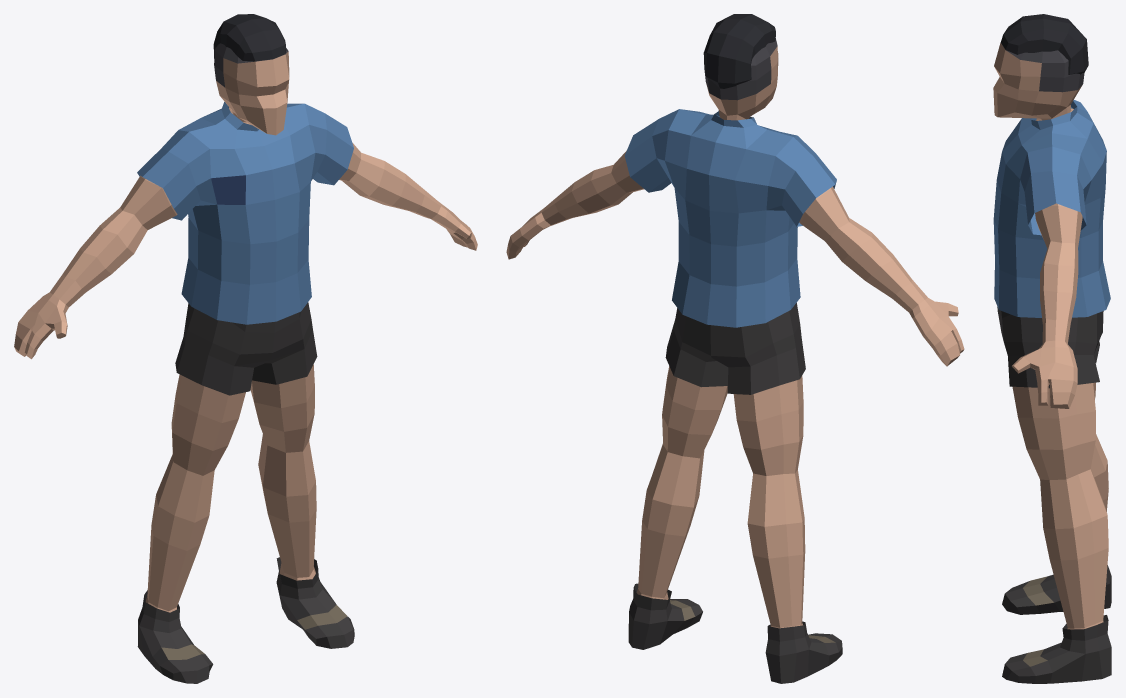
File: Man01.fbx
The picture shows the model from 3 angles, left to right: view 1: azimuth 30°, elevation 25°; view 2: azimuth 150°, elevation 25°; view 3: azimuth 270°, elevation 25°; orthographic projection.
Parts seen in each view (by area): view 1: base, shirt, pants, shoes, hair; view 2: base, shirt, pants, shoes, hair; view 3: base, shirt, shoes, pants, hair.
Boxes of the visible parts, x1,y1,x2,y2 form: base: (14,43,477,612); shirt: (137,102,353,324); pants: (175,302,317,395); shoes: (137,557,354,683); hair: (213,14,286,61); base: (506,38,964,628); shirt: (624,109,836,327); pants: (665,302,805,394); shoes: (628,583,842,683); hair: (703,14,775,88); base: (993,42,1108,629); shirt: (993,100,1110,317); shoes: (1002,565,1111,683); pants: (997,307,1103,388); hair: (1001,14,1088,74).
Bounding box in the file's own units: 1.49 × 1.97 × 0.3401.
